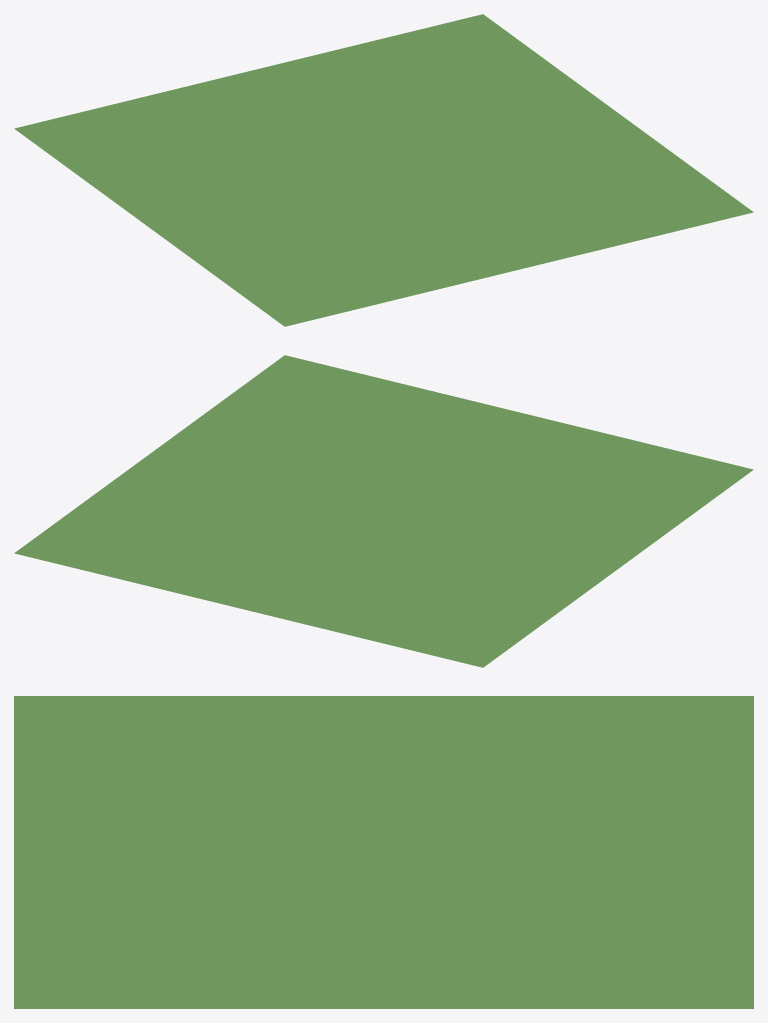
The model's file is terrain_grass_32x32.glb.
3 views of the same model, one above another, from view 1: azimuth 30°, elevation 25°; view 2: azimuth 150°, elevation 25°; view 3: azimuth 270°, elevation 25° (orthographic). The views are drawn at different scales.
Visible parts, largest first — view 1: Terrain_Grass_32x32; view 2: Terrain_Grass_32x32; view 3: Terrain_Grass_32x32.
Boxes of the visible parts, x1,y1,x2,y2 form: Terrain_Grass_32x32: (14, 14, 753, 326); Terrain_Grass_32x32: (14, 355, 753, 667); Terrain_Grass_32x32: (14, 696, 753, 1008).
Size of the model in its own units: 32 by 0 by 32.
